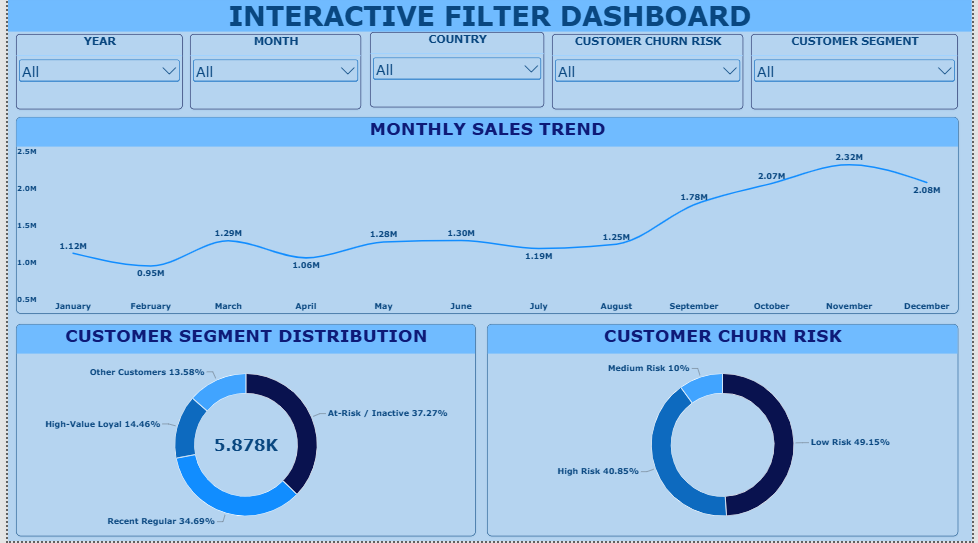

The dashboard page shown, as its layout file describes it:
{"tool":"powerbi","page":{"name":"Interactive Filter Dashboard","canvas":[1920,1080],"ordinal":11},"visuals":[{"type":"textbox","box":[0,0,1920.2,65],"z":0},{"type":"slicer","title":"YEAR","fields":{"Values":["CLEANED.YEAR"]},"box":[15.7,69.5,331.6,150.1],"z":1},{"type":"slicer","title":"MONTH","fields":{"Values":["CLEANED.MONTH"]},"box":[363,69.5,340.6,150.1],"z":2},{"type":"slicer","title":"COUNTRY","fields":{"Values":["CLEANED.Country"]},"box":[721.5,65,347.3,150.1],"z":3},{"type":"lineChart","title":"MONTHLY SALES TREND","fields":{"Category":["CLEANED.DATE.Variation.Date Hierarchy.Month"],"Y":["Sum(CLEANED.TOTAL SALES)"]},"box":[15.7,235.3,1877.7,392.1],"z":4},{"type":"slicer","title":"CUSTOMER CHURN RISK","fields":{"Values":["RFM Customer Table.Churn Risk"]},"box":[1084.5,69.5,380.9,150.1],"z":5},{"type":"slicer","title":"CUSTOMER SEGMENT","fields":{"Values":["RFM Customer Table.Customer Segment"]},"box":[1481.1,69.5,412.3,150.1],"z":6},{"type":"donutChart","title":"CUSTOMER SEGMENT DISTRIBUTION","fields":{"Category":["RFM Customer Table.Customer Segment"],"Y":["CountNonNull(RFM Customer Table.Customer ID)"]},"box":[15.7,647.6,916.4,423.5],"z":7},{"type":"pieChart","title":"CUSTOMER CHURN RISK","fields":{"Category":["RFM Customer Table.Churn Risk"],"Y":["CountNonNull(RFM Customer Table.Customer Segment)"]},"box":[954.5,647.6,938.8,423.5],"z":8}]}

Visuals, with their boxes in screenshot pixels (x1, y1, x2, y2), scaled from the page's 1920x1080 canvas onto the 978x543 screenshot:
textbox: BBox(0, 0, 977, 33)
"YEAR" slicer: BBox(8, 35, 177, 110)
"MONTH" slicer: BBox(185, 35, 358, 110)
"COUNTRY" slicer: BBox(368, 33, 544, 108)
"MONTHLY SALES TREND" lineChart: BBox(8, 118, 964, 315)
"CUSTOMER CHURN RISK" slicer: BBox(552, 35, 746, 110)
"CUSTOMER SEGMENT" slicer: BBox(754, 35, 964, 110)
"CUSTOMER SEGMENT DISTRIBUTION" donutChart: BBox(8, 326, 475, 539)
"CUSTOMER CHURN RISK" pieChart: BBox(486, 326, 964, 539)
